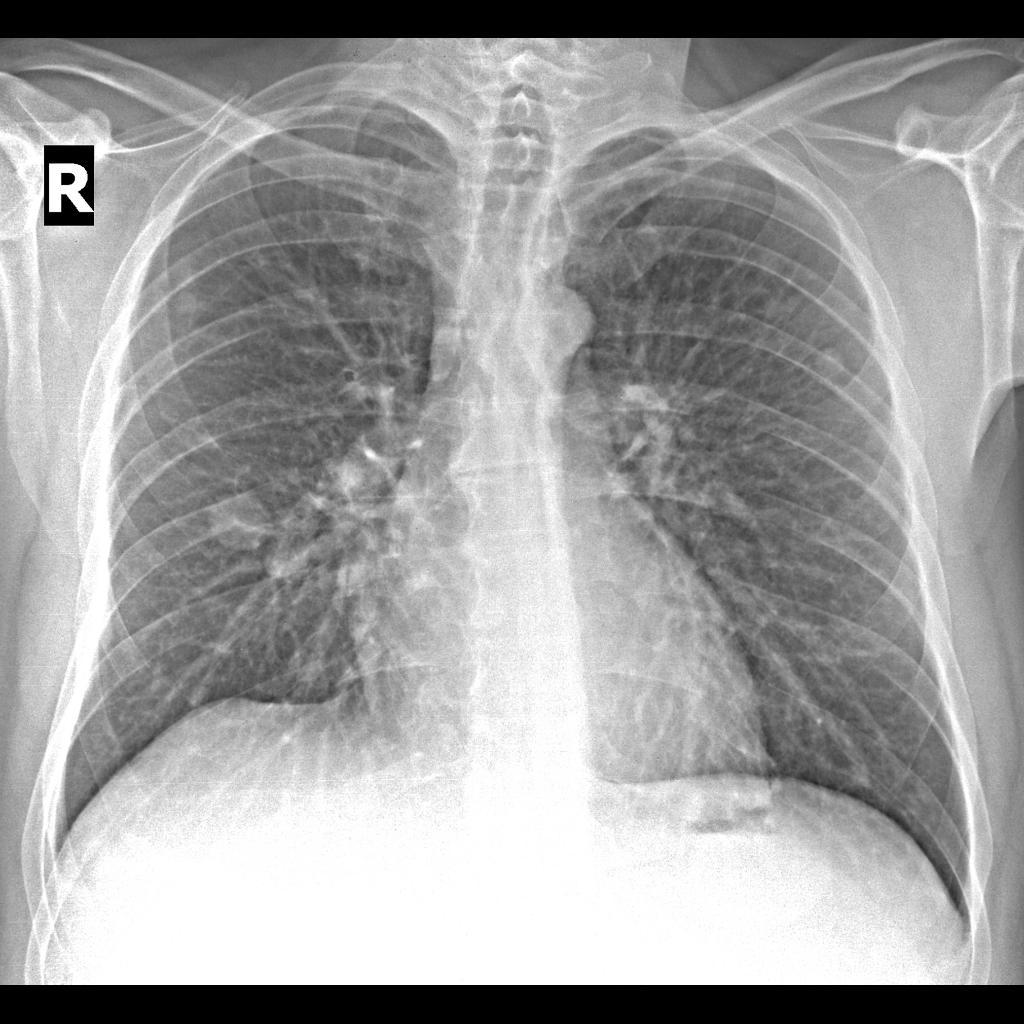Nodule: (199, 486, 279, 557), (810, 339, 854, 385)
